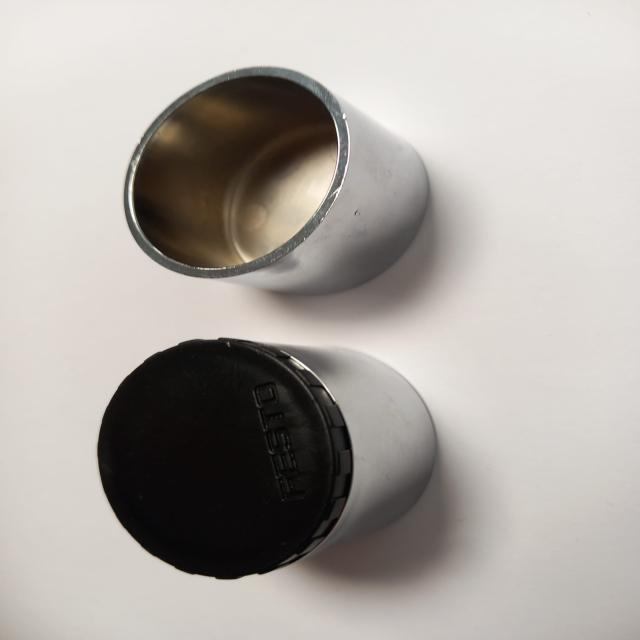NoLid: (100, 71, 458, 304)
Workpiece: (74, 331, 452, 584)
